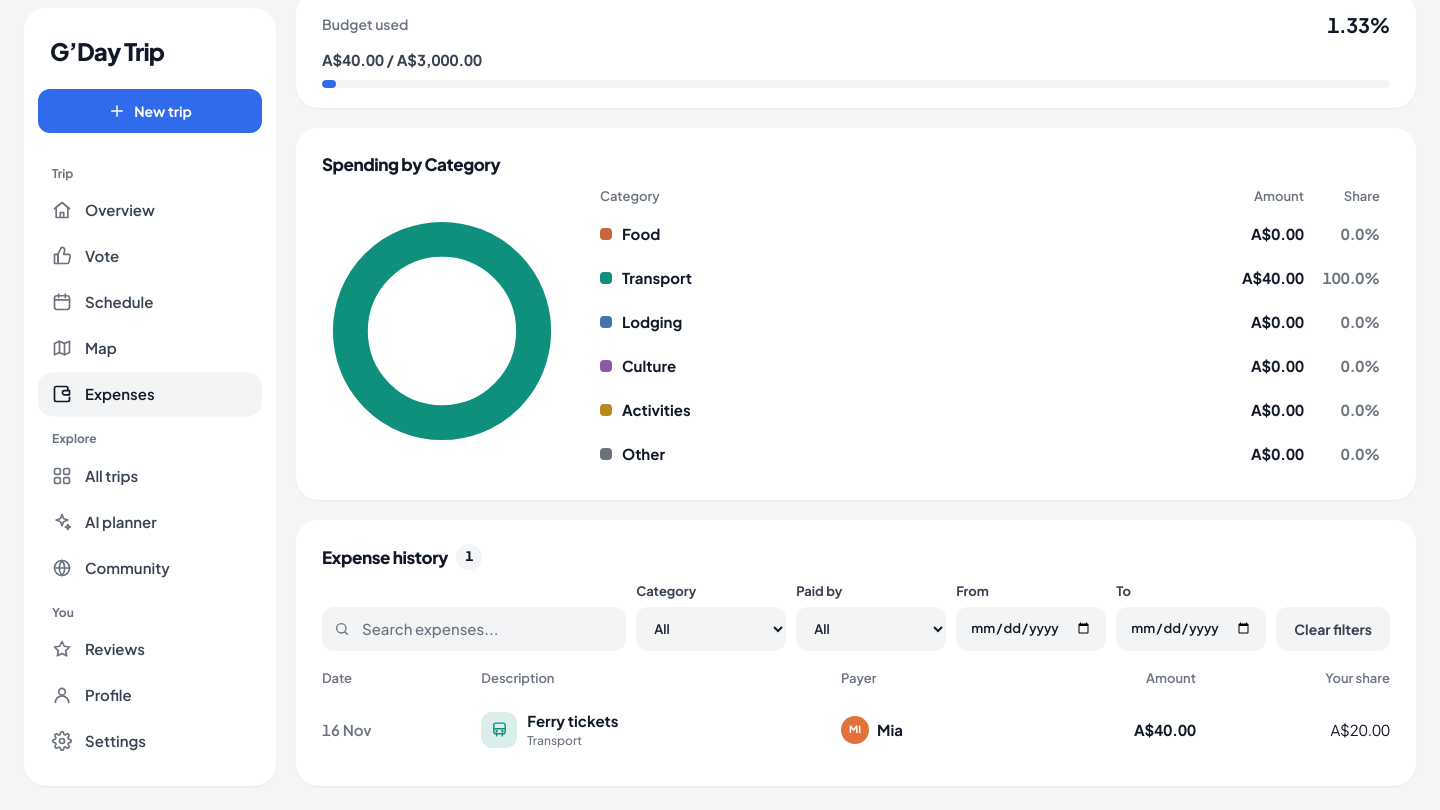
Test: Expenses › the history lists expenses; a row opens its detail, and a participant opens their profile
This screenshot has width=1440, height=810.
(page scrolled)
Expected: the navigation bar with id "auth" is shown, left=38, top=372, right=262, bottom=416
Expected: the text "Ferry tickets" shows "A$40.00", left=1134, top=720, right=1196, bottom=739
Click the text "Ferry tickets". click: (856, 730)
box: left=312, top=700, right=1400, bottom=760
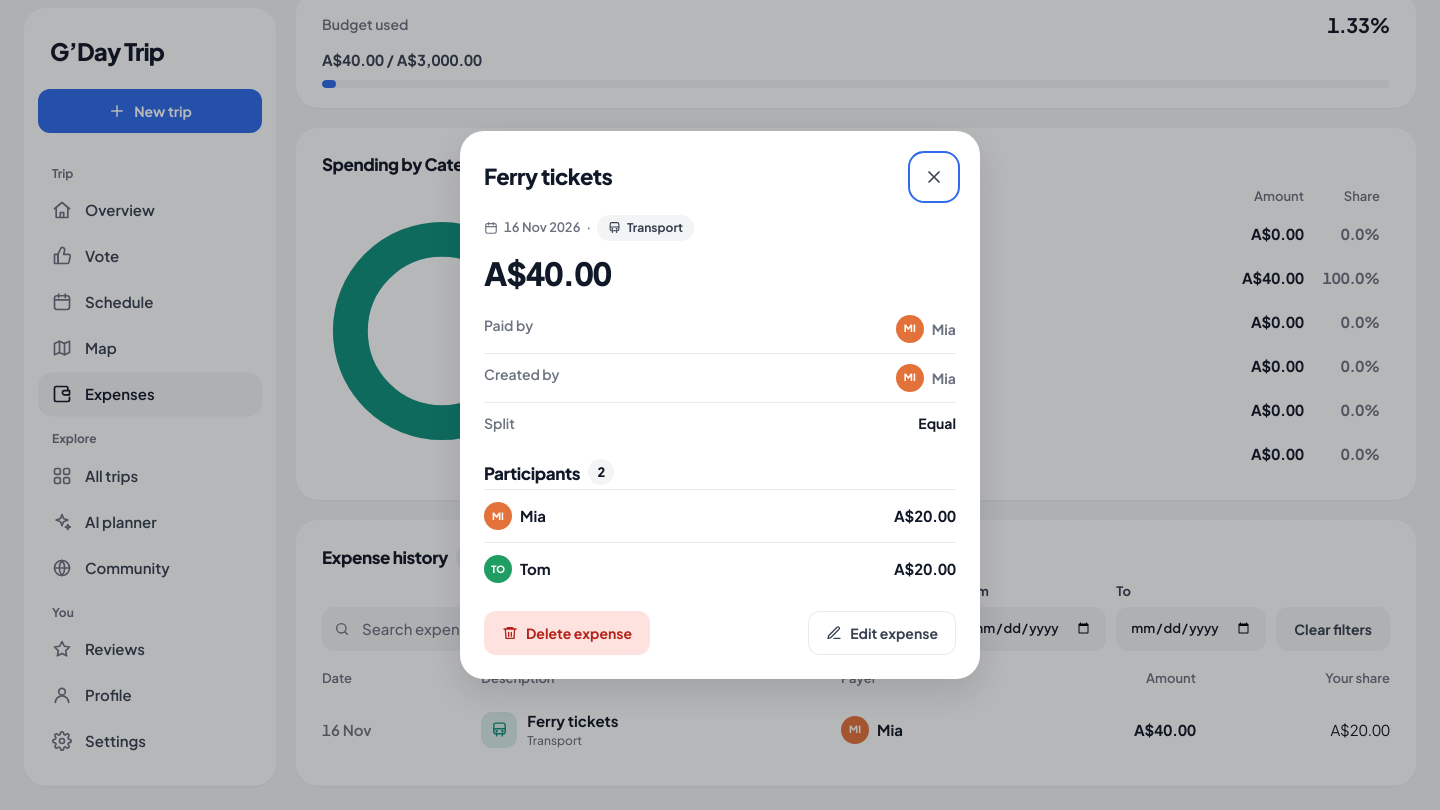
Click the button "TO". click: (498, 569)
box: left=484, top=555, right=512, bottom=583
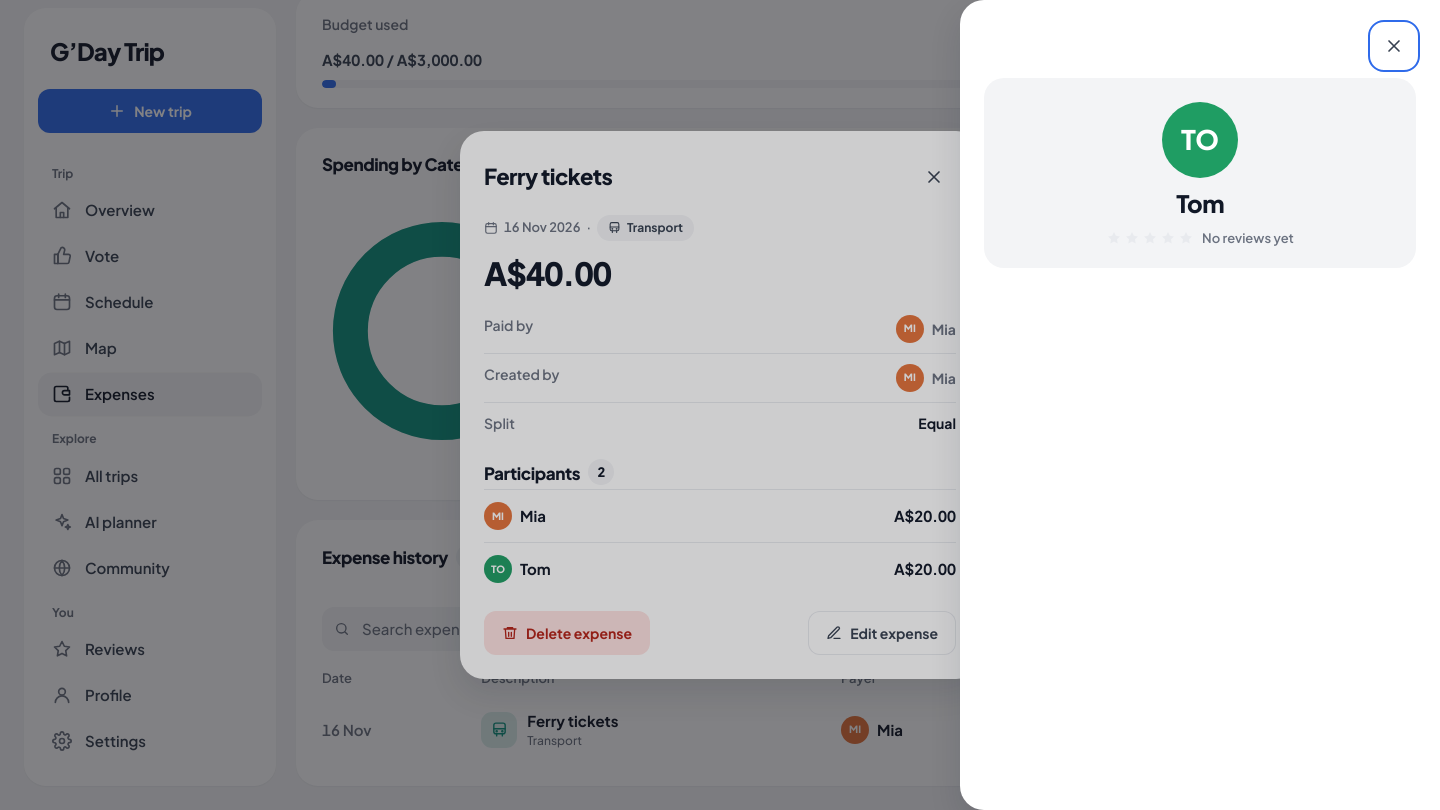
Expected: the heading "Tom" is shown, left=1176, top=186, right=1224, bottom=221
